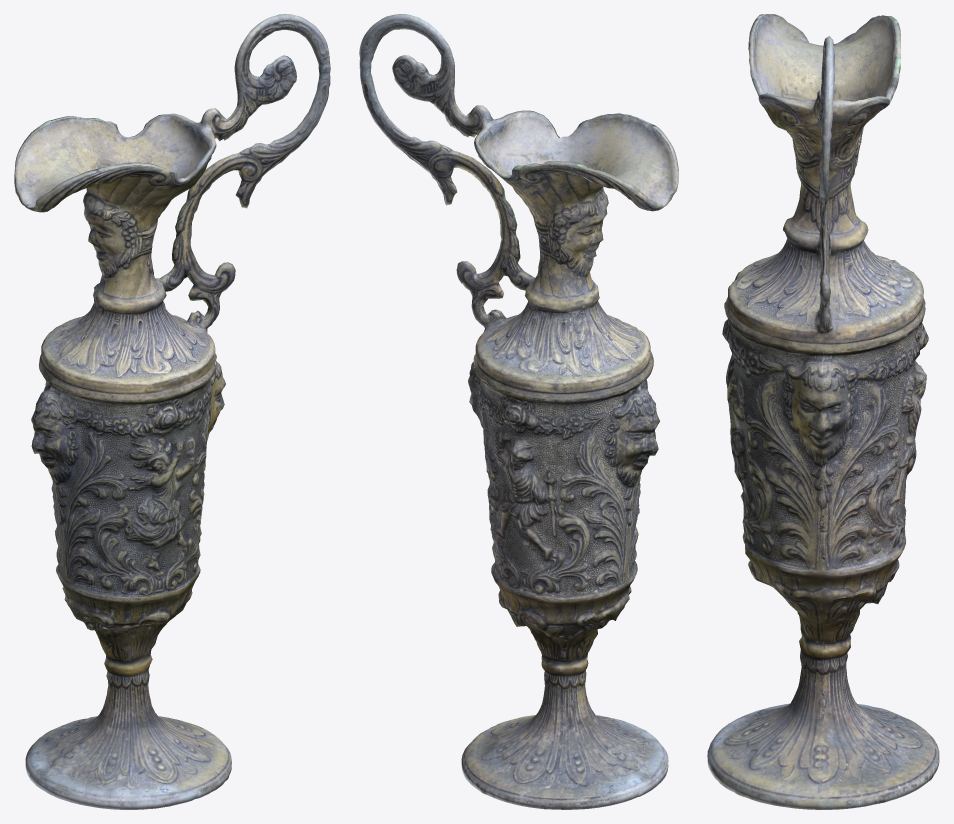
File: ExtraTABdecor.glb
The picture shows the model from 3 angles, left to right: view 1: azimuth 30°, elevation 25°; view 2: azimuth 150°, elevation 25°; view 3: azimuth 270°, elevation 25°; orthographic projection. The views are drawn at different scales.
Parts seen in each view (by area): view 1: antique_dusty_vase_lowpoly; view 2: antique_dusty_vase_lowpoly; view 3: antique_dusty_vase_lowpoly.
Part boxes in pixels (x1,y1,x2,y2): antique_dusty_vase_lowpoly: (14, 14, 330, 809); antique_dusty_vase_lowpoly: (359, 14, 678, 809); antique_dusty_vase_lowpoly: (707, 14, 939, 809).
Size of the model in its own units: 0.1885 by 0.4204 by 0.11.
1 material, 1 textured.
